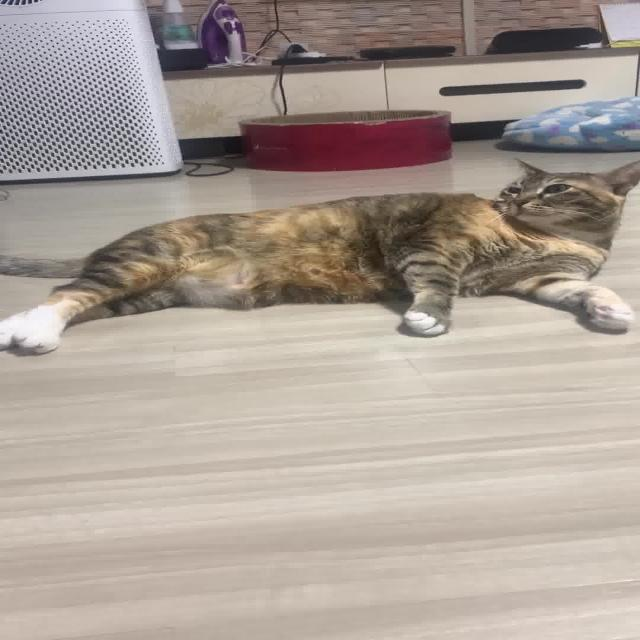cat: (0, 154, 640, 364)
